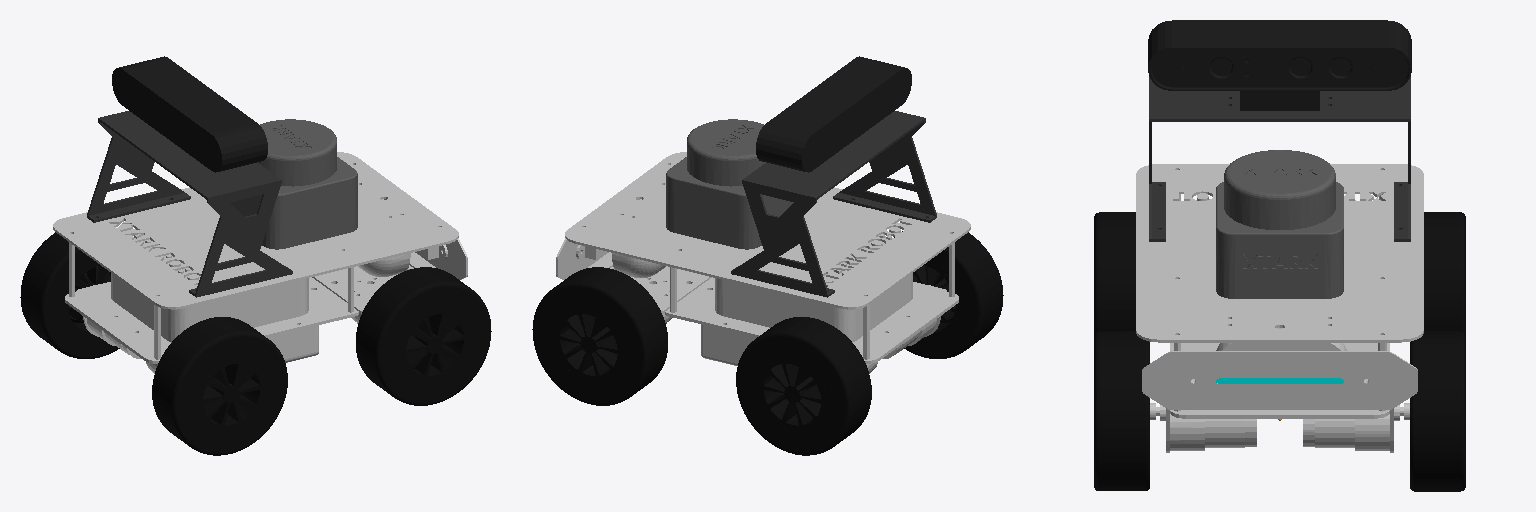
The robot description file, URDF, robot "tarkbot_robot":
<?xml version="1.0" encoding="utf-8"?>

<robot name="tarkbot_robot">

    <!-- 机器人底部中心原点 -->
    <link name="base_footprint">
        <visual>
            <geometry>
                <sphere radius="0.001" />
            </geometry>
        </visual>
    </link>

    <!-- 机器人底盘 -->
    <link name="base_link">
        <visual>
            <geometry>
                <mesh filename="package://tarkbot_description/meshes/base_r20_fwl.stl" />
            </geometry>
            <origin xyz="0 0 0" rpy="0 0 0" />
            <material name="base_color">
                <!-- <color rgba="0.000 0.500 0.500 1" /> -->
                <!-- <color rgba="0.000 0.000 1.000 1" /> -->
                <!-- <color rgba="1.000 0.500 0.000 1" /> -->
                <color rgba="0.800 0.800 0.800 1" />
            </material>
        </visual>
    </link>    

        <!-- 机器人轮子 -->
    <link name="wheel_fl">
        <visual>
            <geometry>
                <mesh filename="package://tarkbot_description/meshes/wheel/w100.stl" />
            </geometry>
            <origin xyz="0 0 0" rpy="0 0 0" />
            <material name="wheel_color">
                <color rgba="0.1 0.1 0.1 1" />
            </material>
        </visual>
    </link>  

    <link name="wheel_fr">
        <visual>
            <geometry>
                <mesh filename="package://tarkbot_description/meshes/wheel/w100.stl" />
            </geometry>
            <origin xyz="0 0 0" rpy="0 0 0" />
            <material name="wheel_color">
                <color rgba="0.1 0.1 0.1 1" />
            </material>
        </visual>
    </link>  

    <link name="wheel_bl">
        <visual>
            <geometry>
                <mesh filename="package://tarkbot_description/meshes/wheel/w100.stl" />
            </geometry>
            <origin xyz="0 0 0" rpy="0 0 0" />
            <material name="wheel_color">
                <color rgba="0.1 0.1 0.1 1" />
            </material>
        </visual>
    </link>  

    <link name="wheel_br">
        <visual>
            <geometry>
                <mesh filename="package://tarkbot_description/meshes/wheel/w100.stl" />
            </geometry>
            <origin xyz="0 0 0" rpy="0 0 0" />
            <material name="wheel_color">
                <color rgba="0.1 0.1 0.1 1" />
            </material>
        </visual>
    </link>  

    <!-- 机器人雷达 -->
    <link name="laser_link">
        <visual>
            <geometry>
                <mesh filename="package://tarkbot_description/meshes/laser.stl" />
            </geometry>
            <origin xyz="0 0 -0.06" rpy="0 0 0" />
            <material name="laser_color">
                <color rgba="0.4 0.4 0.4 1" />
            </material>
        </visual>
    </link> 

    <!-- 机器人摄像头支架 -->
    <link name="cameramount_link">
        <visual>
            <geometry>
                <mesh filename="package://tarkbot_description/meshes/mec_cam_mount.stl" />
            </geometry>
            <origin xyz="0 0 0" rpy="0 0 0" />
            <material name="cameramount_color">
                <color rgba="0.25 0.25 0.25 1" />
            </material>
        </visual>
    </link>  

    <!-- 机器人摄像头 -->
    <link name="camera_link">
        <visual>
            <geometry>
                <mesh filename="package://tarkbot_description/meshes/depthcamera.stl" />
            </geometry>
            <origin xyz="-0.037 0 0" rpy="0 0 0" />
            <material name="camera_color">
                <color rgba="0.15 0.15 0.15 1" />
            </material>
        </visual>
    </link>

    <!-- 机器人IMU传感器 -->
    <link name="imu_link">
        <visual>
            <geometry>
                <sphere radius="0.010" />
            </geometry>
            <origin xyz="0 0 0" rpy="0 0 0" />
            <material name="imu_color">
                <color rgba="1 1 0 1" />
            </material>
        </visual>
    </link>

    <!-- 机器人前灯 -->
    <link name="light_link">
        <visual>
            <geometry>
                <mesh filename="package://tarkbot_description/meshes/light.stl" />
            </geometry>
            <origin xyz="0 0 0" rpy="0 0 0" />
            <material name="light_color">
                <color rgba="0.0 1.0 1.0 1" />
            </material>
        </visual>
    </link>

    <!-- 底盘与原点连接的关节 -->
    <joint name="baselink2footprint" type="fixed">
        <origin xyz="0 0 0.1155" rpy="0 0 0"/>
        <parent link="base_footprint" />
        <child  link="base_link" />
    </joint>

        <!-- 轮子到与底盘连接的关节 -->
    <joint name="wheelfl2base" type="fixed">
        <origin xyz="0.088 0.096 -0.069" rpy="0 0 1.57"/>
        <parent link="base_link" />
        <child  link="wheel_fl" />
    </joint>

    <joint name="wheelfr2base" type="fixed">
        <origin xyz="0.088 -0.096 -0.069" rpy="0 0 -1.57"/>
        <parent link="base_link" />
        <child  link="wheel_fr" />
    </joint>

    <joint name="wheelbl2base" type="fixed">
        <origin xyz="-0.088 0.096 -0.069" rpy="0 0 1.57"/>
        <parent link="base_link" />
        <child  link="wheel_bl" />
    </joint>

    <joint name="wheelbr2base" type="fixed">
        <origin xyz="-0.088 -0.096 -0.069" rpy="0 0 -1.57"/>
        <parent link="base_link" />
        <child  link="wheel_br" />
    </joint>

    <!-- 雷达到与底盘连接的关节 -->
    <joint name="laser2base" type="fixed">
        <origin xyz="0.03 0 0.06" rpy="0 0 0"/>
        <parent link="base_link" />
        <child  link="laser_link" />
    </joint>

    <!-- 深度摄像头支架与底盘连接的关节 -->
    <joint name="cameramount2base" type="fixed">
        <origin xyz="-0.025 0 0" rpy="0 0 0"/>
        <parent link="base_link" />
        <child  link="cameramount_link" />
    </joint>

    <!-- 深度摄像头与底盘连接的关节 -->
    <joint name="camera2base" type="fixed">
        <origin xyz="-0.040 0 0.1085" rpy="0 0 0"/>
        <parent link="base_link" />
        <child  link="camera_link" />
    </joint>

    <!-- IMU传感器与底盘连接的关节 -->
    <joint name="imu2base" type="fixed">
        <origin xyz="0 0 0" rpy="0 0 0"/>
        <parent link="base_link" />
        <child  link="imu_link" />
    </joint>

    <!-- 前灯与底盘连接的关节 -->
    <joint name="light2base" type="fixed">
        <origin xyz="0.133 0 -0.027 " rpy="0 0 0"/>
        <parent link="base_link" />
        <child  link="light_link" />
    </joint>

</robot>

--- What the picture shows (computed from the rendered views, not written in the file) ---
The picture shows the robot from 3 angles, left to right: view 1: azimuth 30°, elevation 25°; view 2: azimuth 150°, elevation 25°; view 3: azimuth 270°, elevation 25°; orthographic projection.
Model tarkbot_robot with 11 links and 10 joints (10 fixed), rooted at base_footprint, posed every joint at zero.
Visible links, largest first — view 1: base_link, wheel_fr, wheel_br, cameramount_link, laser_link, camera_link, wheel_bl; view 2: base_link, wheel_bl, wheel_fl, cameramount_link, laser_link, camera_link, wheel_br; view 3: base_link, camera_link, laser_link, cameramount_link, wheel_fl, wheel_fr, wheel_bl, wheel_br, light_link.
Boxes of the visible links, x1,y1,x2,y2 form: base_link: [53, 152, 467, 373]; wheel_fr: [356, 267, 491, 405]; wheel_br: [152, 317, 287, 455]; cameramount_link: [87, 111, 292, 297]; laser_link: [230, 119, 357, 249]; camera_link: [112, 56, 267, 172]; wheel_bl: [20, 232, 119, 358]; base_link: [556, 152, 970, 373]; wheel_bl: [736, 317, 871, 455]; wheel_fl: [532, 267, 667, 405]; cameramount_link: [731, 111, 936, 297]; laser_link: [666, 119, 793, 249]; camera_link: [756, 56, 911, 172]; wheel_br: [894, 231, 1003, 358]; base_link: [1136, 164, 1423, 452]; camera_link: [1148, 20, 1411, 110]; laser_link: [1216, 150, 1343, 298]; cameramount_link: [1149, 77, 1410, 241]; wheel_fl: [1410, 331, 1465, 491]; wheel_fr: [1094, 331, 1149, 490]; wheel_bl: [1424, 212, 1465, 334]; wheel_br: [1094, 212, 1135, 334]; light_link: [1216, 378, 1343, 383].
Size in the robot's own frame: 0.276 by 0.2321 by 0.2425 metres.
Meshes: 6 distinct files referenced, 9 mesh visuals loaded (6 binary STL).